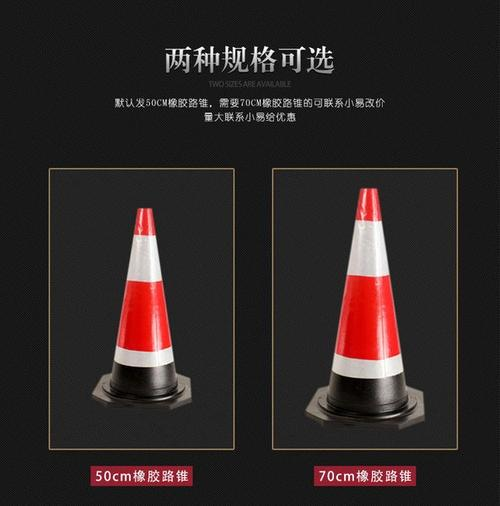cone_barrel: (307, 189, 421, 423), (93, 211, 189, 406)
